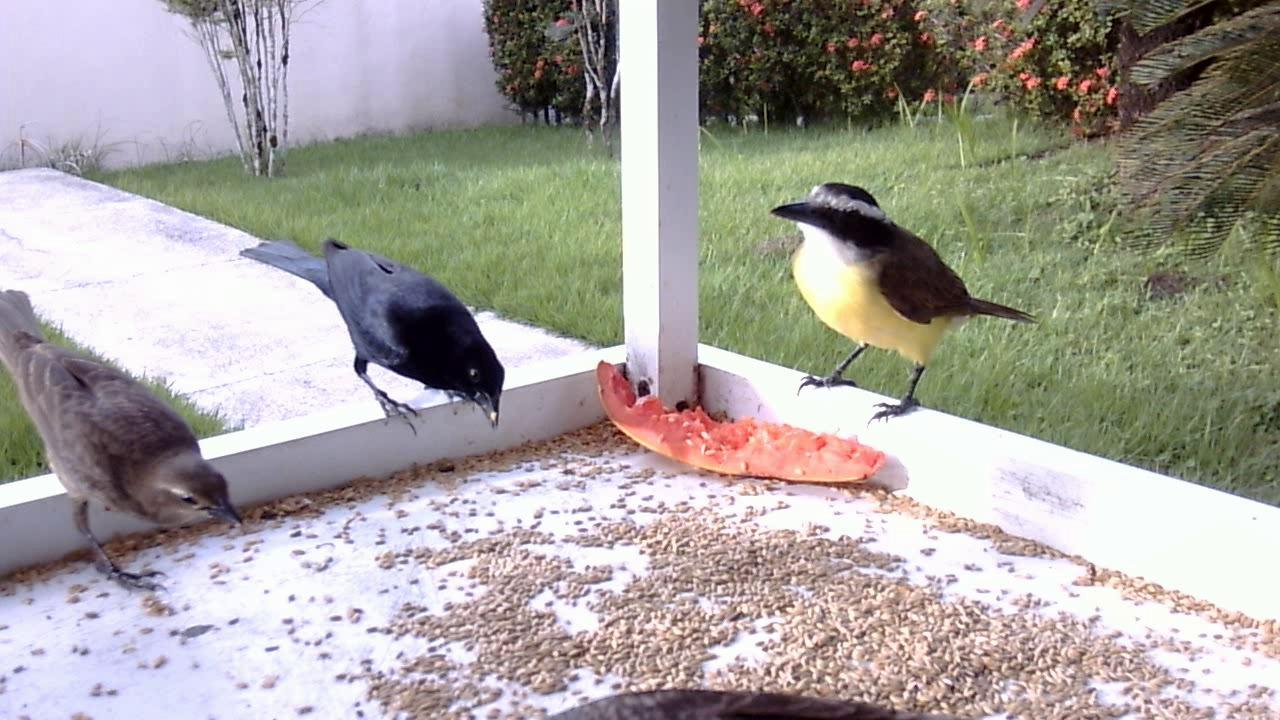bem_te_vi: (761, 172, 1037, 434)
chupim: (1, 281, 257, 608), (224, 221, 515, 445)
